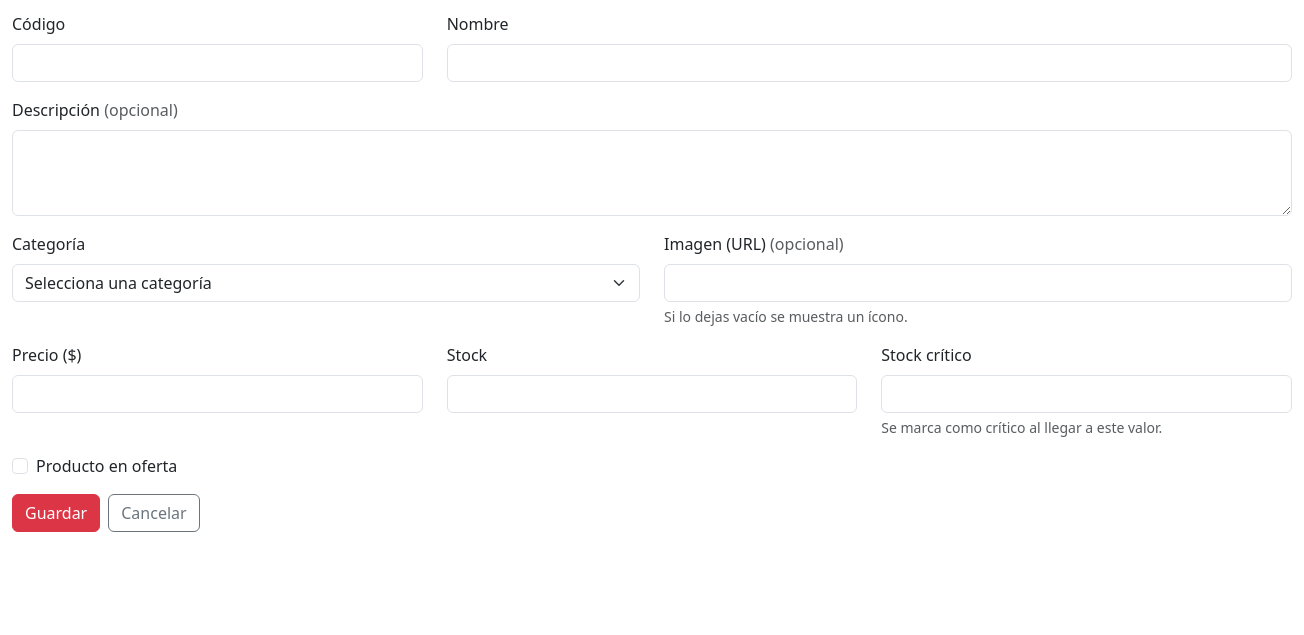
Test: Estado: ProductForm (useForm) › muestra el campo precio de oferta solo cuando se marca la oferta
Click the checkbox with id "oferta" at [20, 466], box [12,458,28,474]
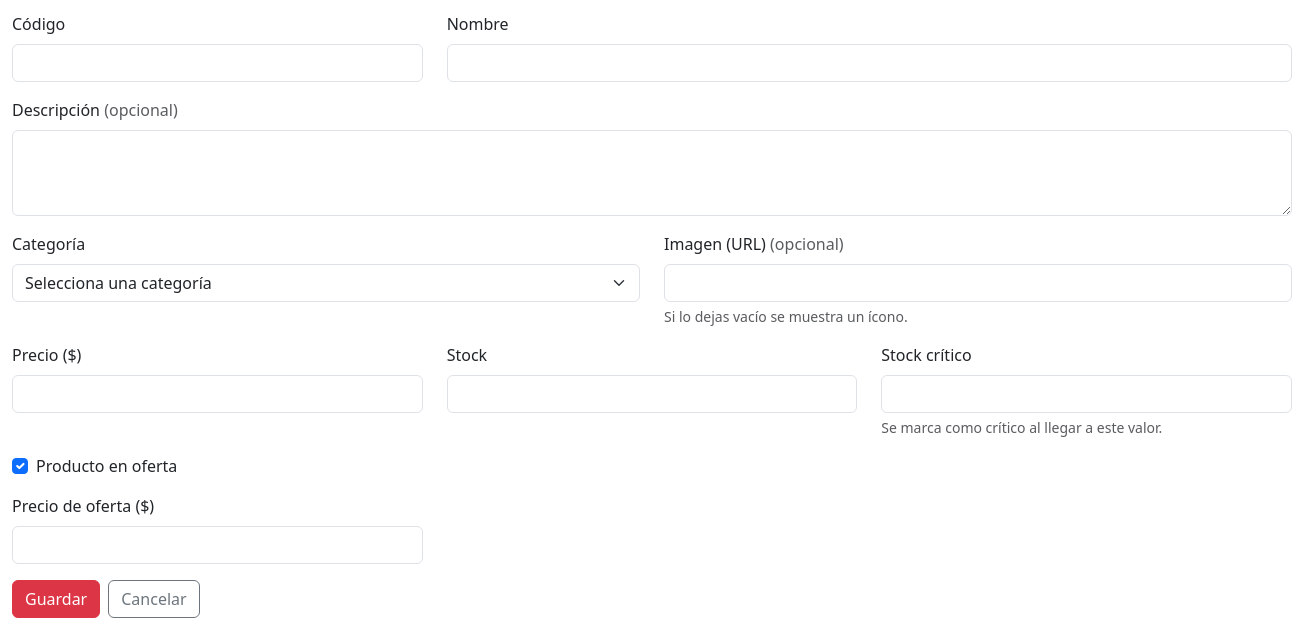
Result: the number field labelled "Precio de oferta ($)" is shown at [12,526,423,564]
